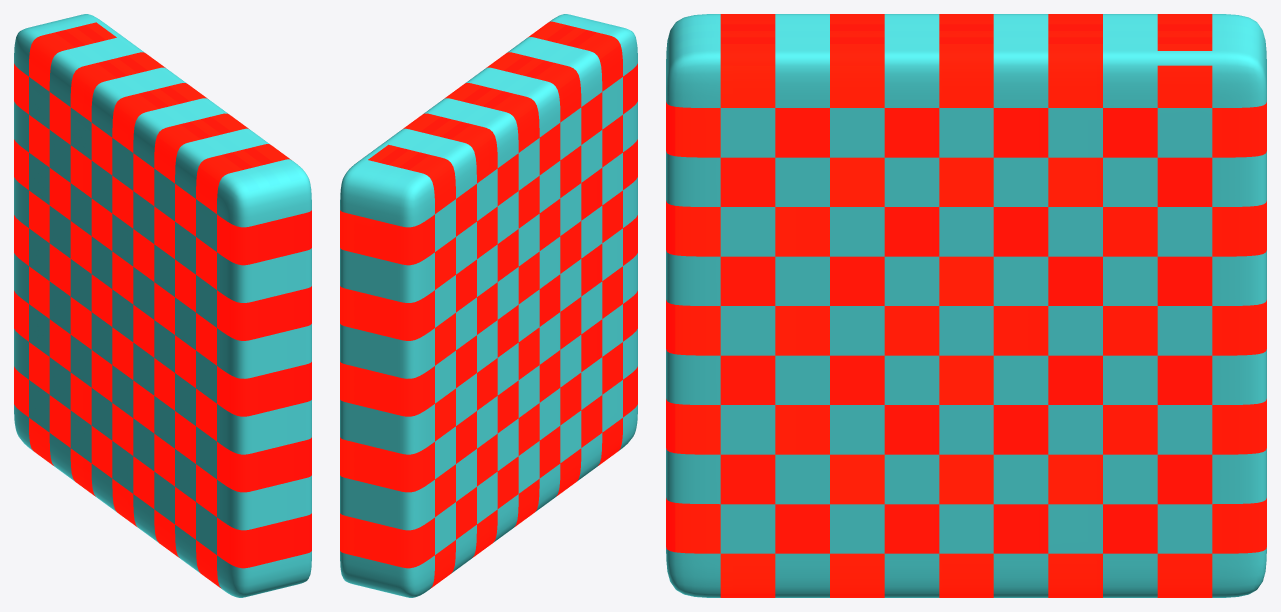
3 renders of one model, left to right at view 1: azimuth 30°, elevation 25°; view 2: azimuth 150°, elevation 25°; view 3: azimuth 270°, elevation 25°, orthographic. The views are drawn at different scales.
Parts seen in each view (by area): view 1: W3; view 2: W3; view 3: W3.
Part boxes in pixels (bbox=[...]): W3: bbox=[14, 14, 311, 597]; W3: bbox=[340, 14, 637, 597]; W3: bbox=[666, 14, 1266, 597].
Size of the model in its own units: 0.3 by 1.5 by 1.5.
Materials: 1 (1 with a texture image).
